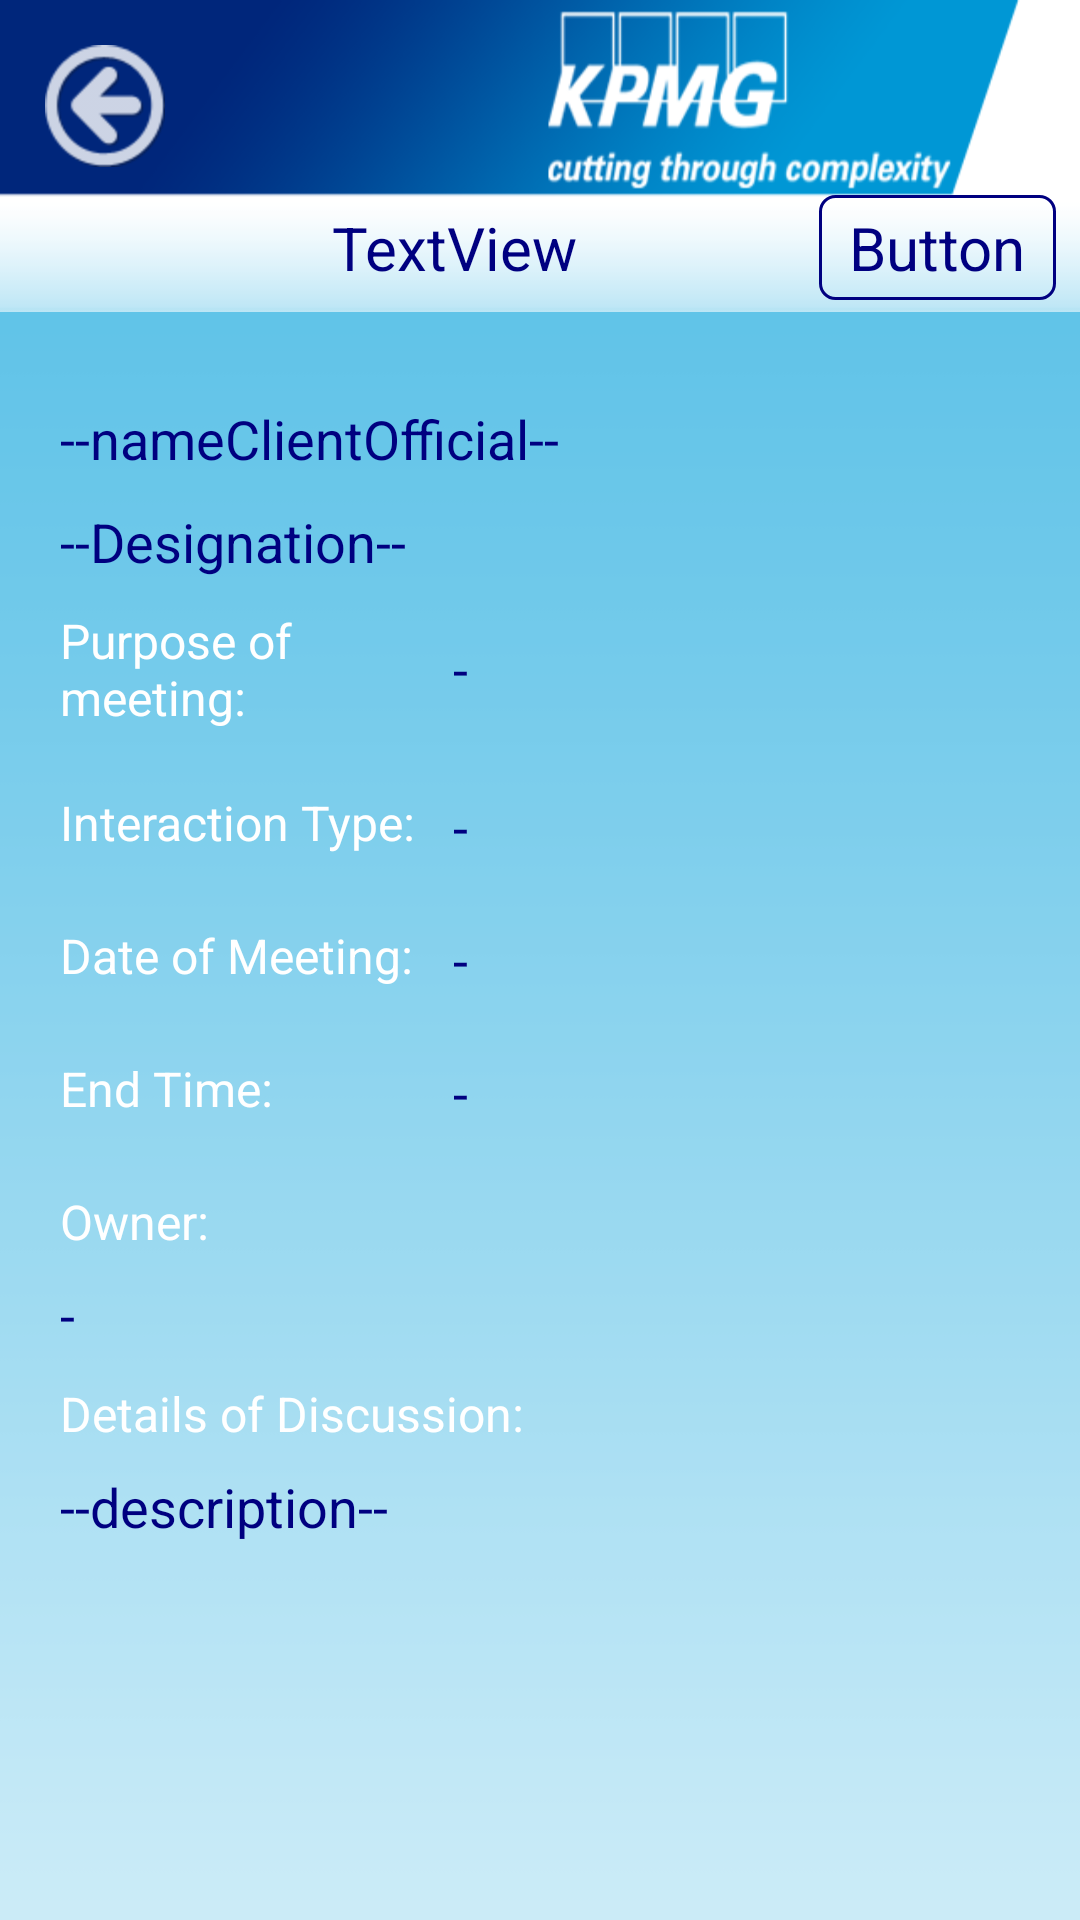

Screen size 1080x1920. Icon name, then its center in pixels as (x,y):
back: (105,106)
